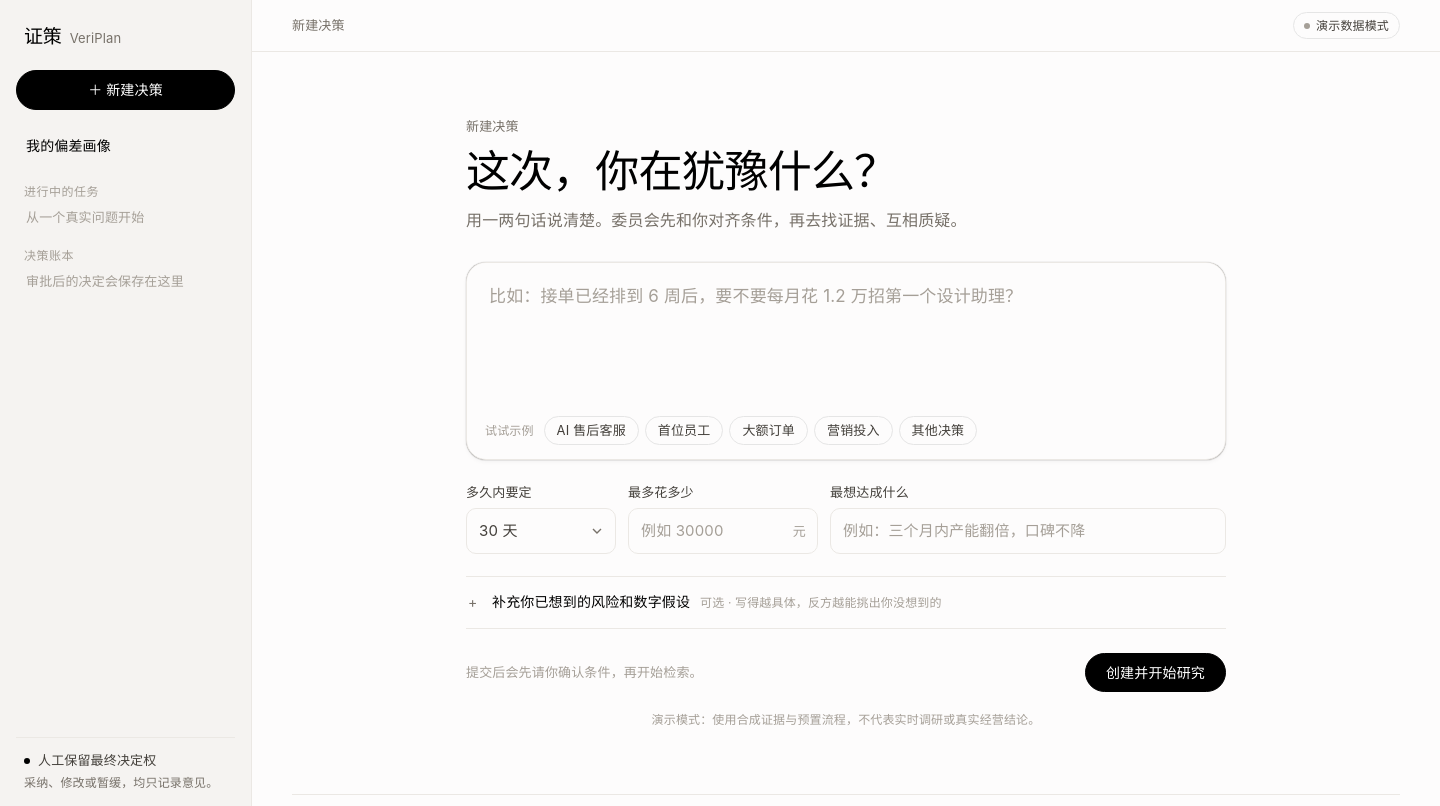
Test case: does not replace a newly created ledger row with a slow startup response
The width and height of the screenshot is (1440, 806).
Click the button with aria-label "填入 AI 售后客服示例" at point(591, 430), box [544, 416, 639, 445]
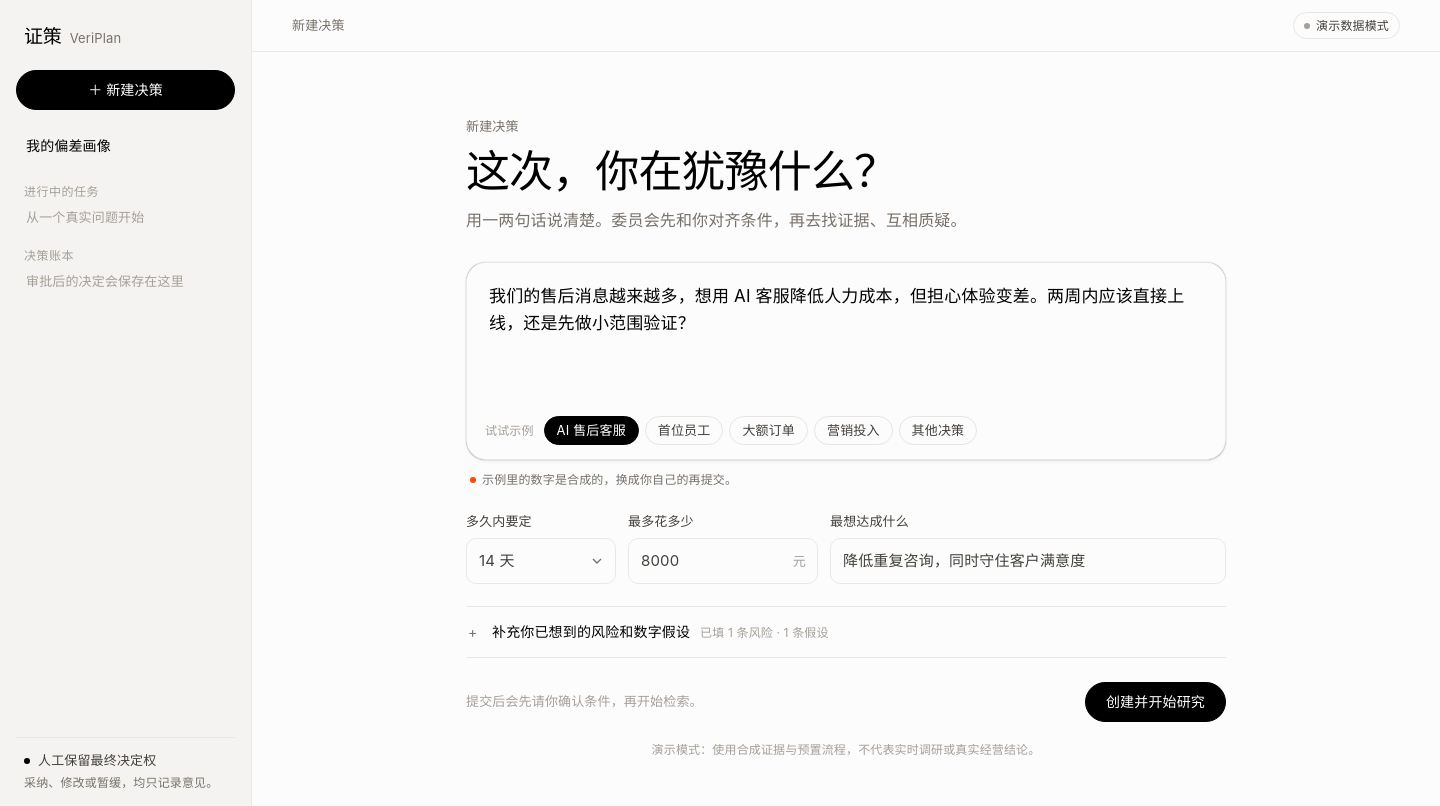
Replace the text in the text box named "经营决策问题" with "我们是否应该先小范围验证 AI 售后客服？" at point(846, 331), box [467, 263, 1225, 400]
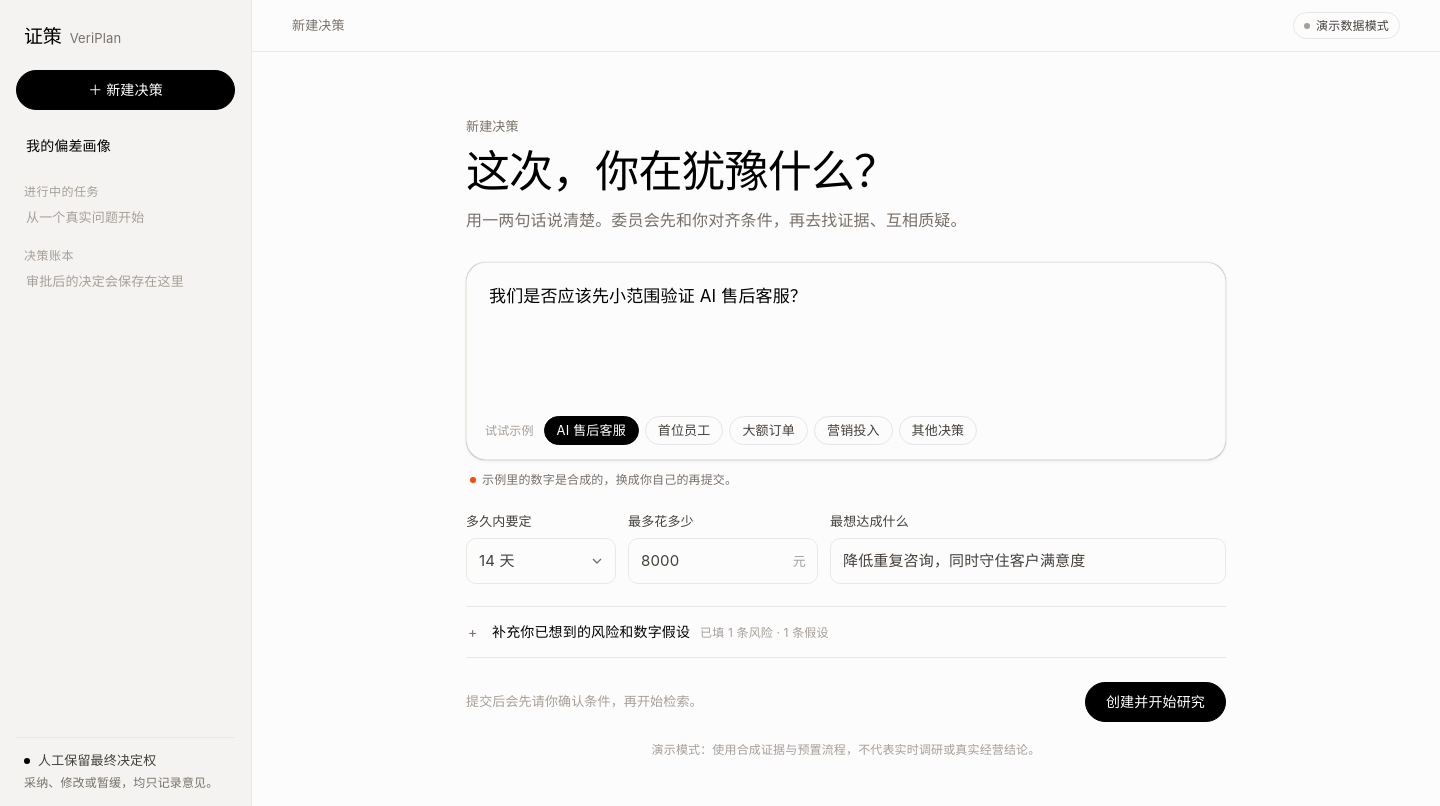
Click the button "创建并开始研究" at point(1155, 702), box [1085, 682, 1226, 722]
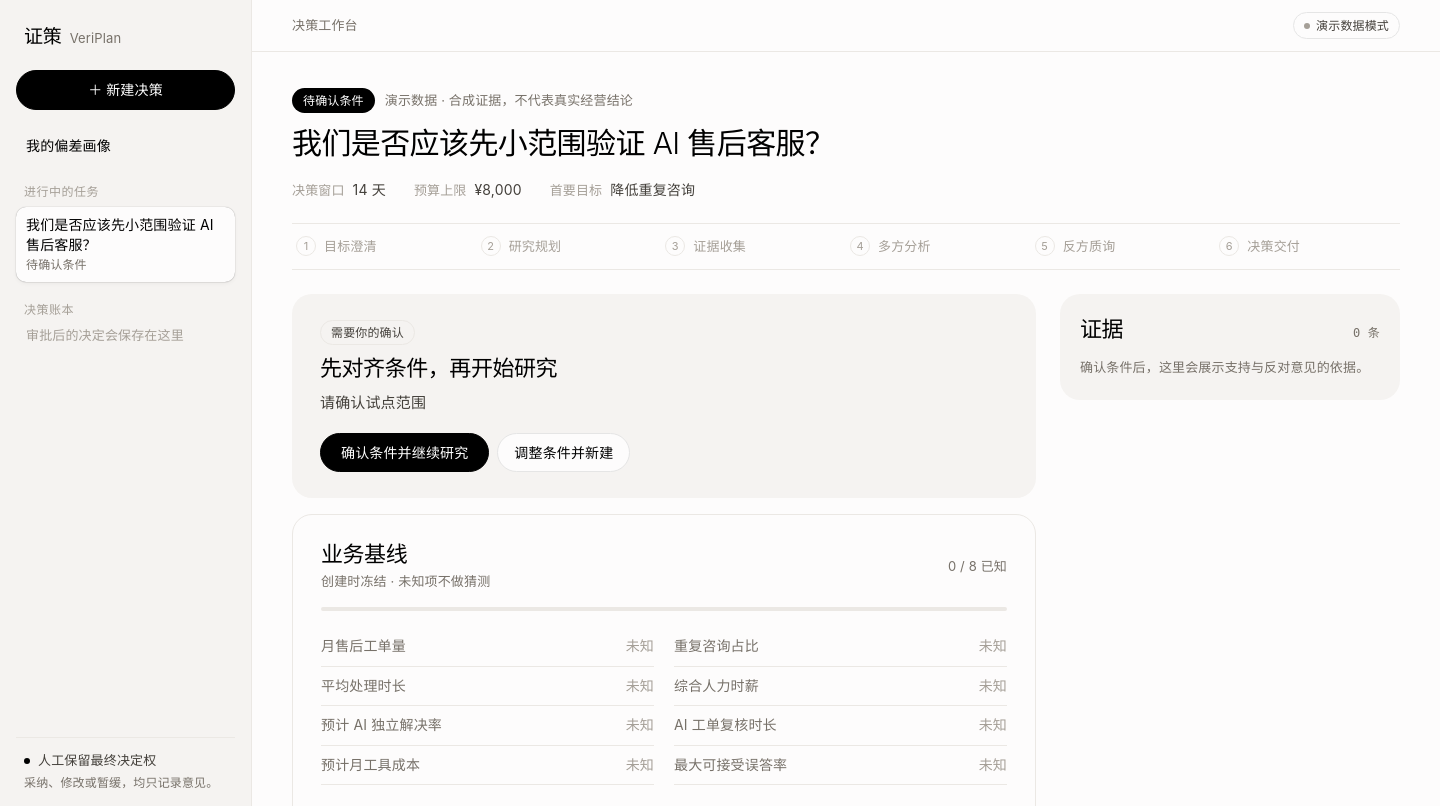
Check: the button "确认条件并继续研究" is shown, box [320, 433, 489, 472]
Check: the button "我们是否应该先小范围验证 AI 售后客服？ 待确认条件" is shown, box [16, 207, 235, 282]
